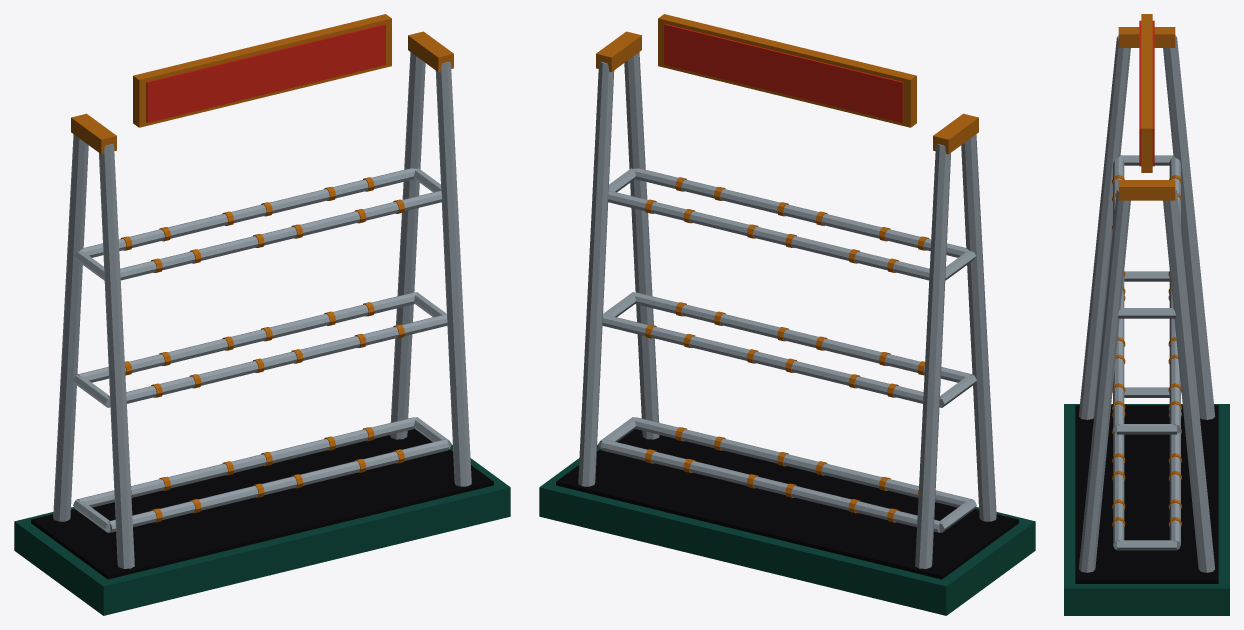
Rendered from cozy_bowling_ball_rack_empty.obj.
The picture shows the model from 3 angles, left to right: view 1: azimuth 30°, elevation 25°; view 2: azimuth 150°, elevation 25°; view 3: azimuth 270°, elevation 25°; orthographic projection. The views are drawn at different scales.
Parts seen in each view (by area): view 1: BallRack_Empty_Mesh; view 2: BallRack_Empty_Mesh; view 3: BallRack_Empty_Mesh.
Boxes of the visible parts, left/top/right/bottom form: BallRack_Empty_Mesh: left=14, top=14, right=510, bottom=615; BallRack_Empty_Mesh: left=539, top=14, right=1035, bottom=615; BallRack_Empty_Mesh: left=1064, top=14, right=1229, bottom=615.
Size of the model in its own units: 1.16 by 1.33 by 0.44.
